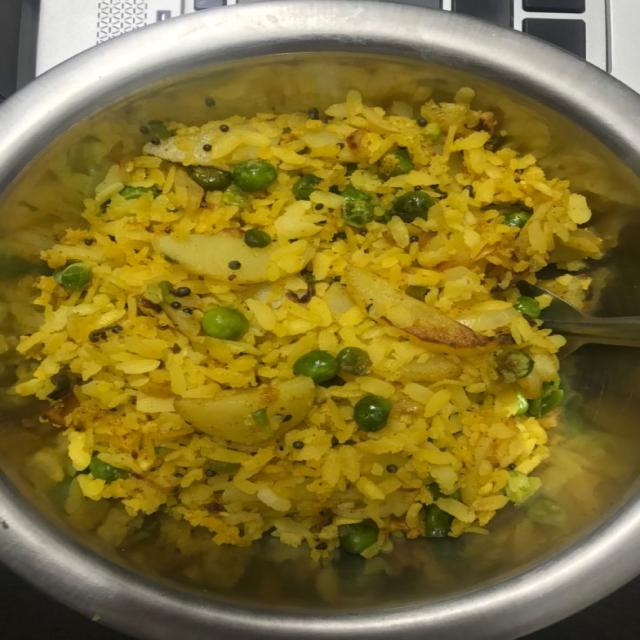POHA: (1, 87, 601, 592)
